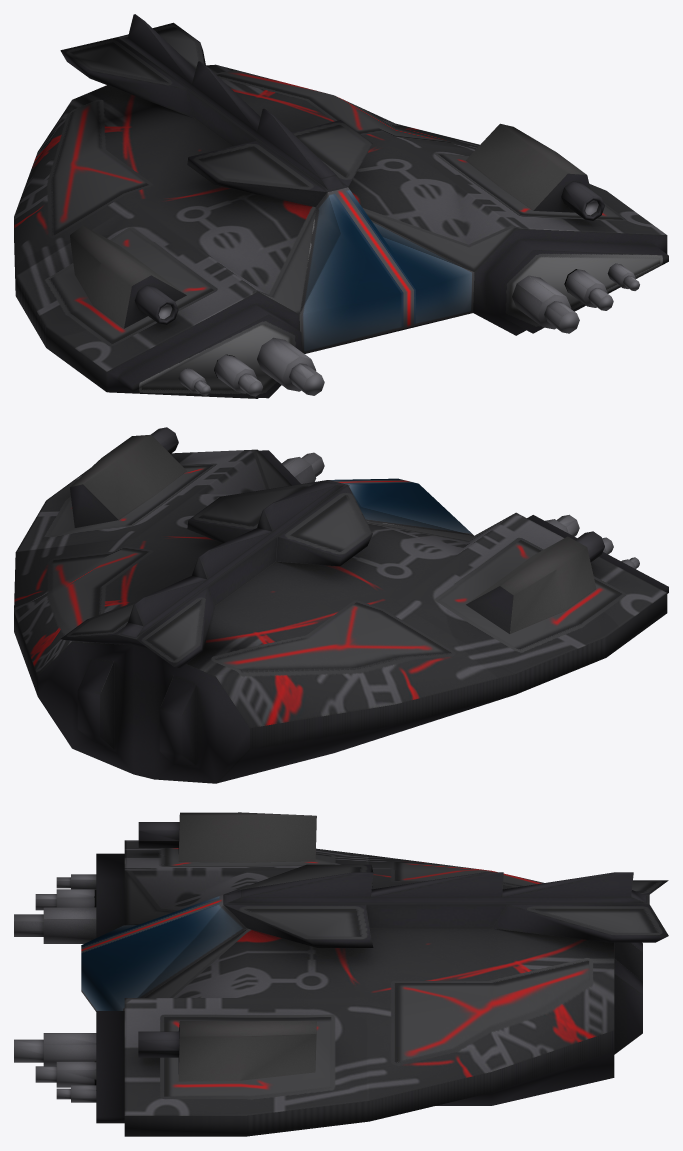
Rendered from Boss01_model.FBX.
The picture shows the model from 3 angles, top to bottom: view 1: azimuth 30°, elevation 25°; view 2: azimuth 150°, elevation 25°; view 3: azimuth 270°, elevation 25°; orthographic projection.
Visible parts, largest first — view 1: Box01; view 2: Box01; view 3: Box01.
Part boxes in pixels (bbox=[...]): Box01: bbox=[14, 14, 668, 398]; Box01: bbox=[14, 427, 668, 783]; Box01: bbox=[14, 812, 668, 1136].
Bounding box in the file's own units: 63.85 × 19.5 × 64.12.
Materials: 1 (1 with a texture image).
